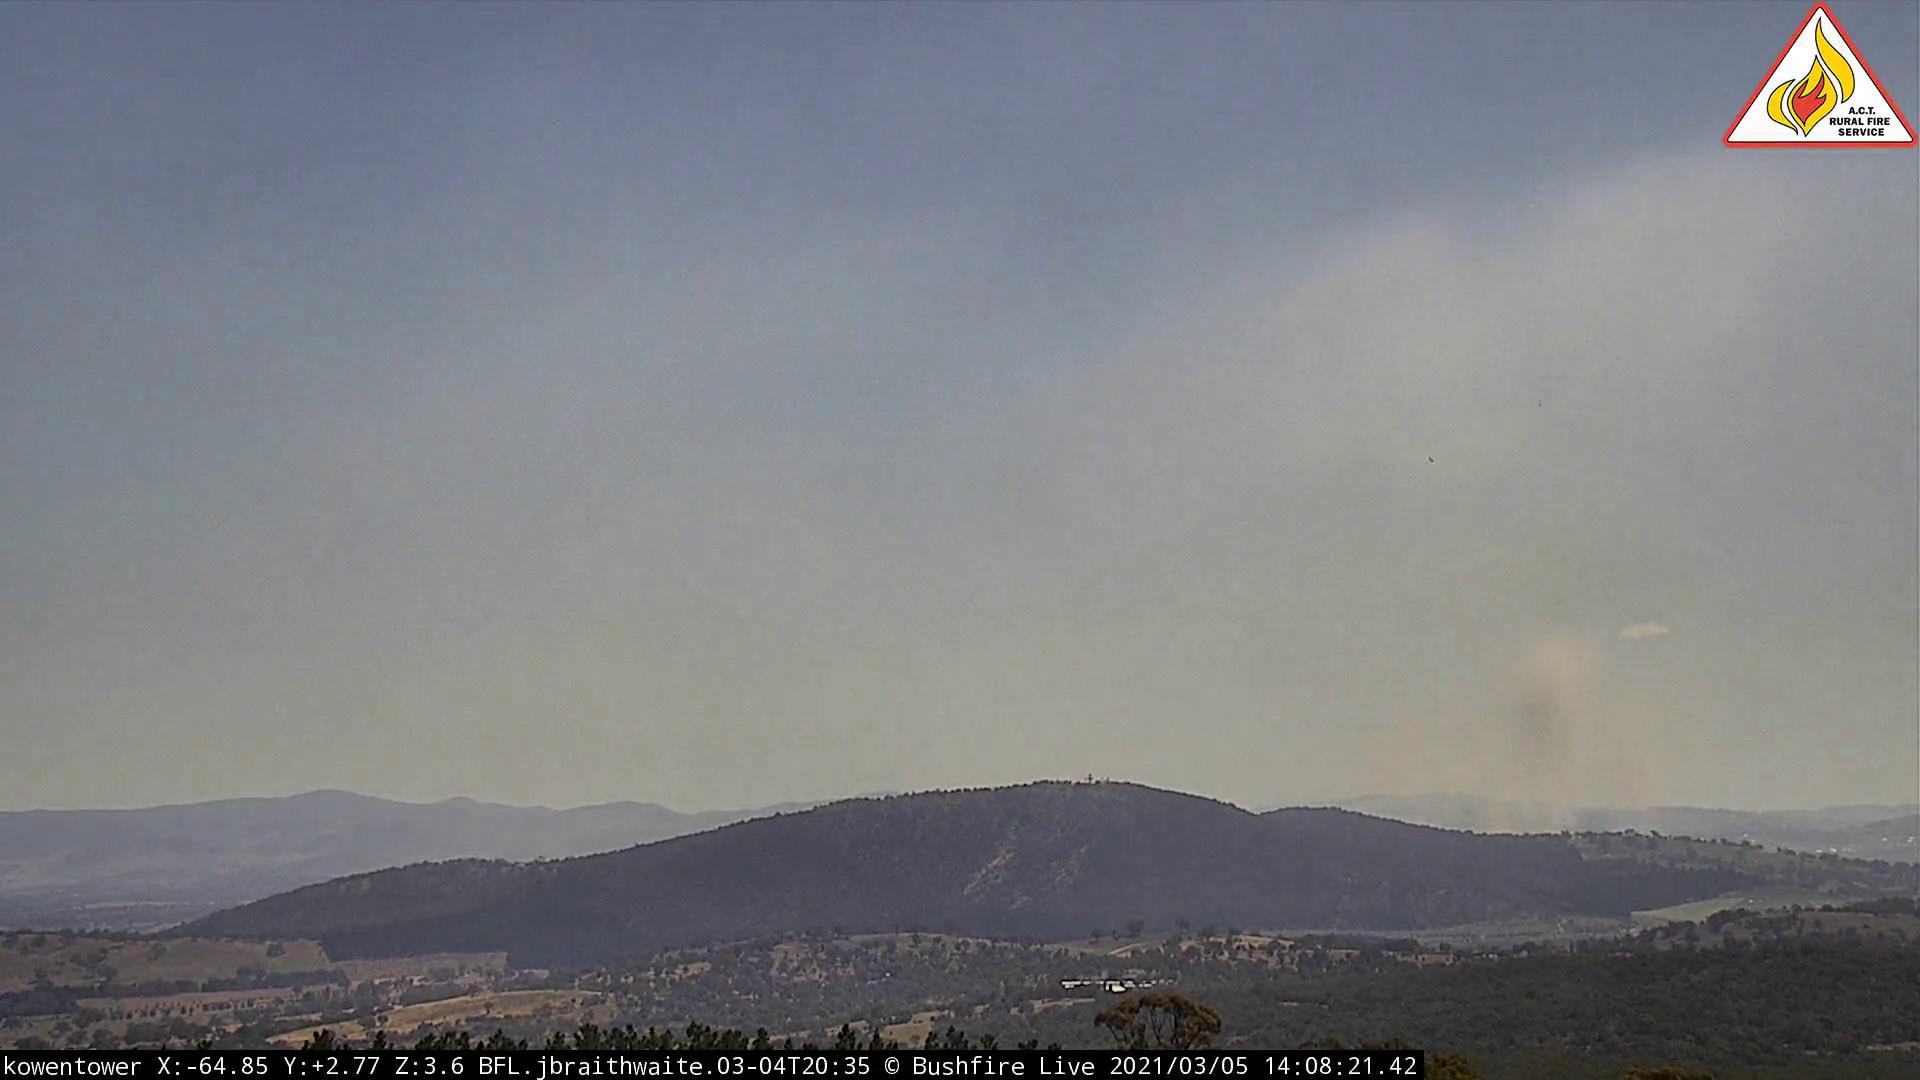instance_salient_object: (1366, 596, 1702, 843)
